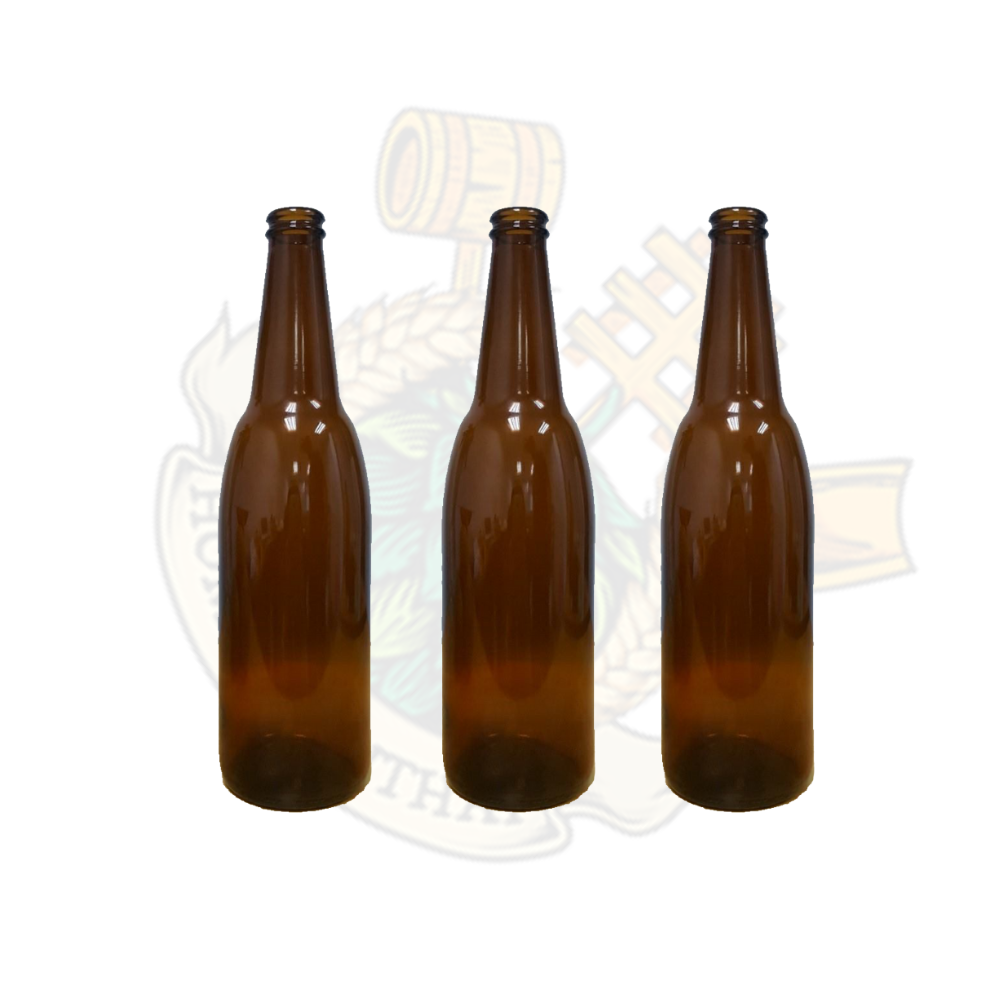glass_bottle: (192, 190, 392, 828), (420, 191, 613, 830), (642, 193, 832, 837)
